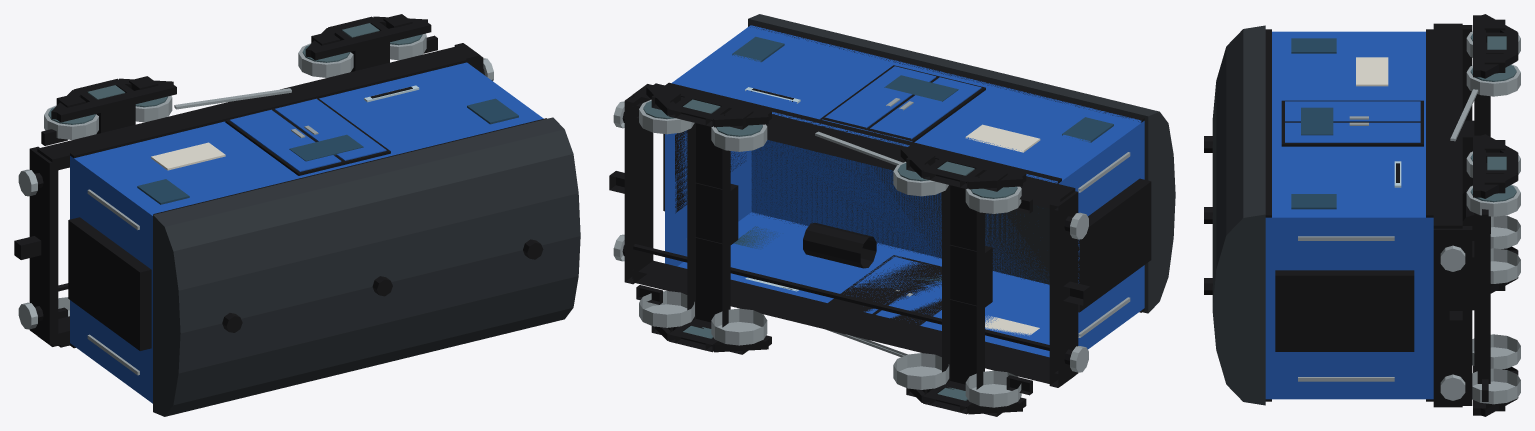
The picture shows the model from 3 angles, left to right: view 1: azimuth 30°, elevation 25°; view 2: azimuth 150°, elevation 25°; view 3: azimuth 270°, elevation 25°; orthographic projection. The views are drawn at different scales.
Visible parts, largest first — view 1: default_roof, default_body, default_gangway-1, default_bogie-1, default_solebar1, default_bogie1, default_headstock-1, default_side1_-3.40_2.00, default_side1_-0.75_2.20, default_side1_0.03_2.20, default_buffers-1, default_side1_-0.80_2.15 (+6 smaller); view 2: default_body, default_bogie1, default_bogie-1, default_roof, default_solebar-1, default_gangway-1, default_headstock1, default_headstock-1, default_solebar1, default_side-1_-0.80_2.15, default_side1_-0.75_2.20, default_side1_0.03_2.20 (+18 smaller); view 3: default_body, default_roof, default_gangway1, default_bogie1, default_bogie-1, default_solebar1, default_headstock1, default_side1_-0.75_2.20, default_side1_0.03_2.20, default_side1_-3.40_2.00, default_buffers1, default_side1_-0.80_2.15 (+11 smaller).
Part boxes in pixels (box(x1,y1,x2,y2)): default_roof: box(153, 117, 580, 416); default_body: box(70, 62, 543, 403); default_gangway-1: box(68, 217, 151, 350); default_bogie-1: box(44, 76, 176, 347); default_solebar1: box(37, 44, 480, 170); default_bogie1: box(298, 14, 431, 77); default_headstock-1: box(29, 146, 58, 344); default_side1_-3.40_2.00: box(70, 57, 466, 158); default_side1_-0.75_2.20: box(229, 109, 341, 171); default_side1_0.03_2.20: box(275, 98, 386, 160); default_buffers-1: box(14, 169, 43, 329); default_side1_-0.80_2.15: box(225, 97, 390, 175); default_body: box(665, 25, 1144, 357); default_bogie1: box(639, 83, 771, 354); default_bogie-1: box(893, 145, 1026, 416); default_roof: box(748, 14, 1175, 313); default_solebar-1: box(632, 260, 1072, 385); default_gangway-1: box(1078, 178, 1151, 312); default_headstock1: box(624, 95, 653, 284); default_headstock-1: box(1049, 191, 1078, 387); default_solebar1: box(632, 84, 1075, 210); default_side-1_-0.80_2.15: box(828, 255, 941, 325); default_side1_-0.75_2.20: box(870, 77, 981, 141); default_side1_0.03_2.20: box(824, 66, 936, 130); default_body: box(1265, 31, 1433, 399); default_roof: box(1212, 25, 1265, 405); default_gangway1: box(1275, 270, 1414, 351); default_bogie1: box(1466, 134, 1520, 416); default_bogie-1: box(1466, 14, 1520, 293); default_solebar1: box(1433, 23, 1462, 228); default_headstock1: box(1433, 226, 1472, 405); default_side1_-0.75_2.20: box(1285, 101, 1420, 121); default_side1_0.03_2.20: box(1285, 122, 1420, 142); default_side1_-3.40_2.00: box(1426, 29, 1433, 217); default_buffers1: box(1440, 245, 1465, 400); default_side1_-0.80_2.15: box(1281, 100, 1423, 146).
Bounding box in the file's own units: 8.2 × 3.9 × 4.9.
